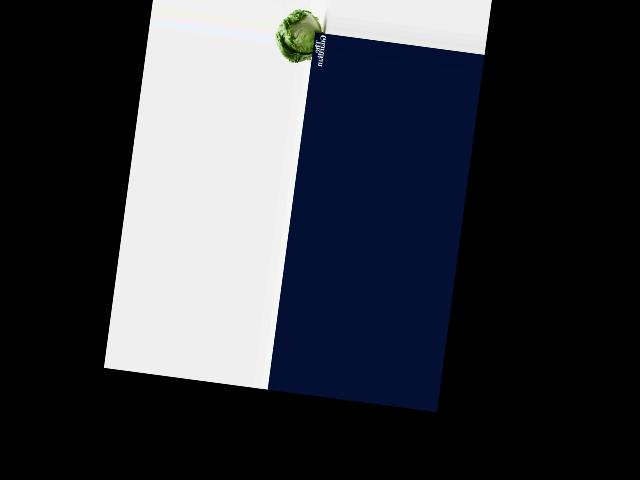lettuce: (270, 7, 324, 64)
